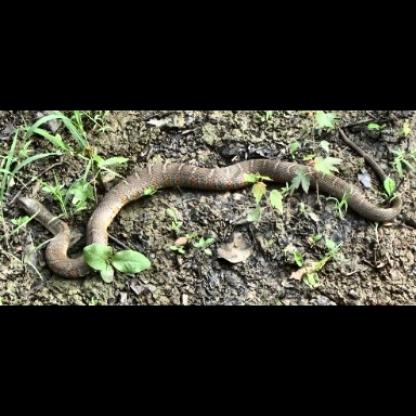Snake: (14, 112, 403, 277)
